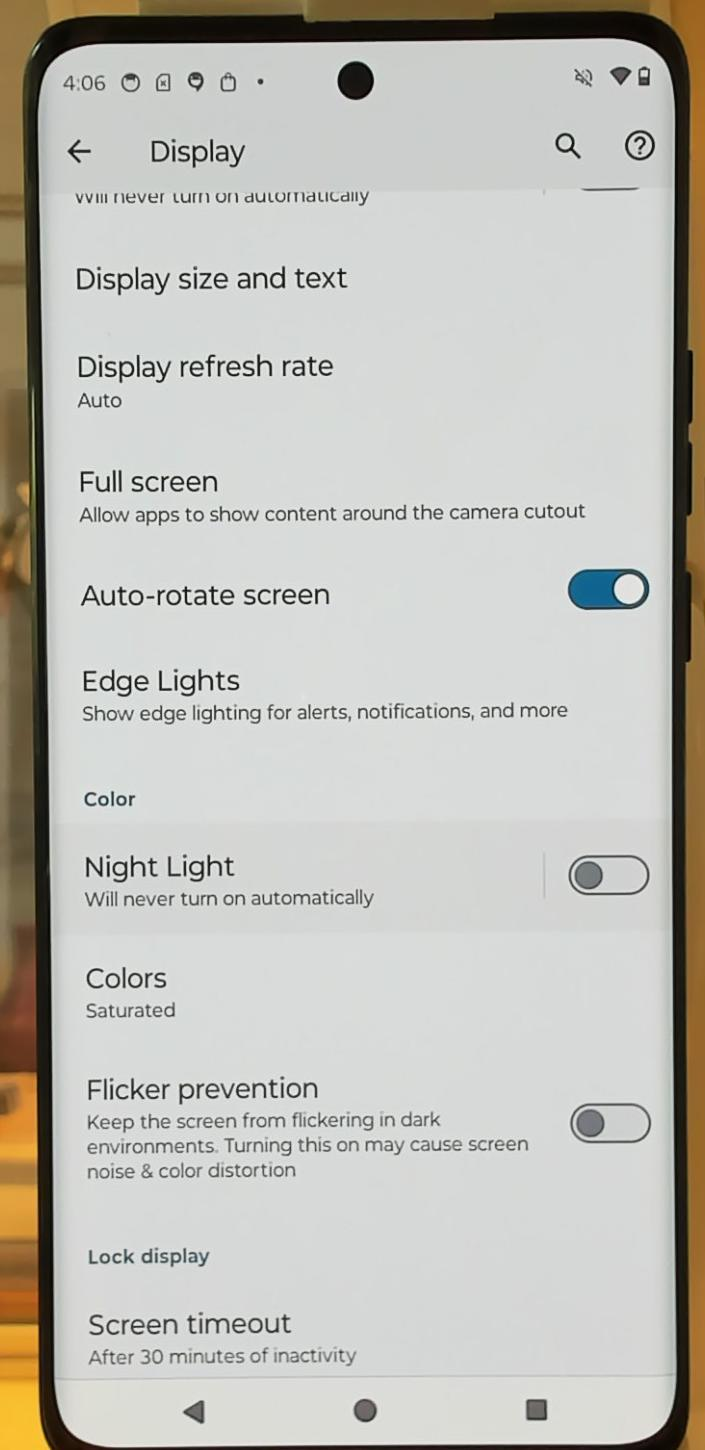Checkbox: (563, 840, 659, 910), (558, 553, 657, 619), (563, 1088, 659, 1156)
